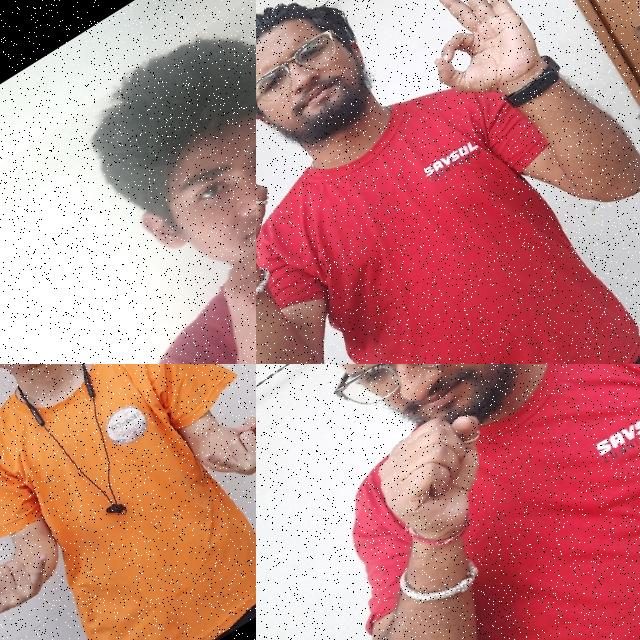Corna: (0, 522, 75, 640), (180, 391, 256, 505)
Fist Mouth: (54, 0, 256, 364), (256, 364, 597, 575)
Okay: (382, 0, 563, 126), (256, 112, 303, 298)
